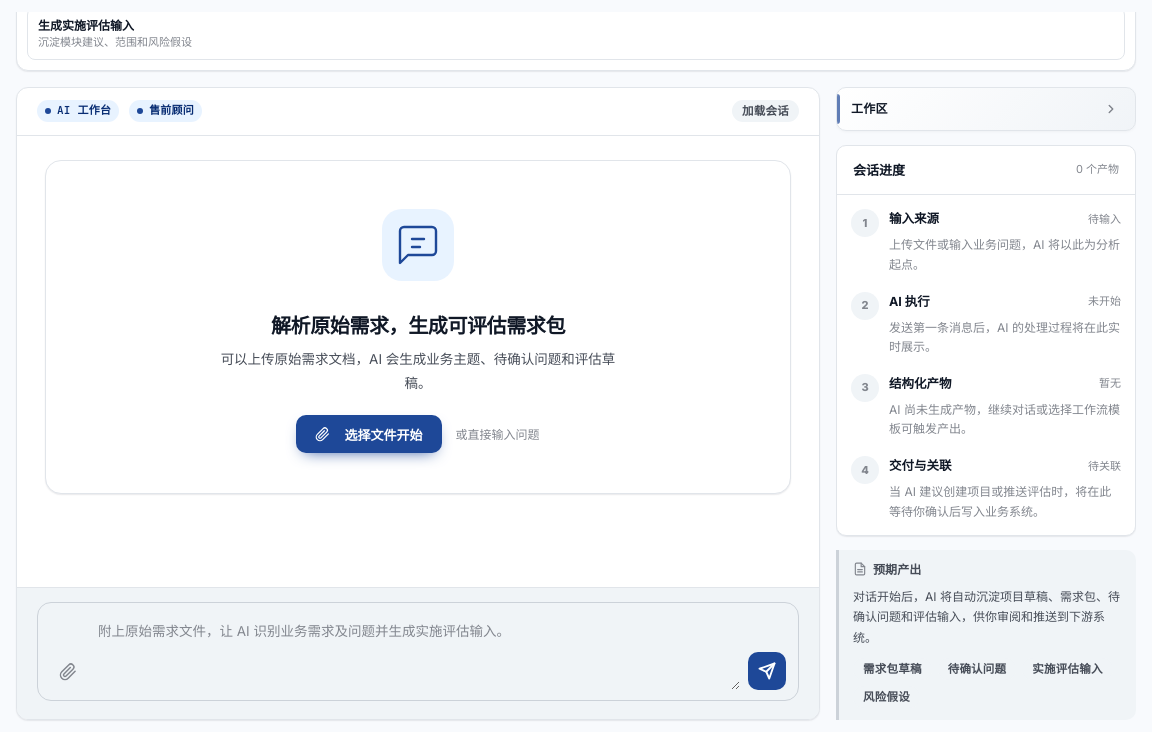
Test: AiHomeWorkbench › does not render unsafe markdown links or raw HTML in AI answers
(page scrolled)
In the text box: (417, 652) [94, 614, 740, 690], type "请返回链接"
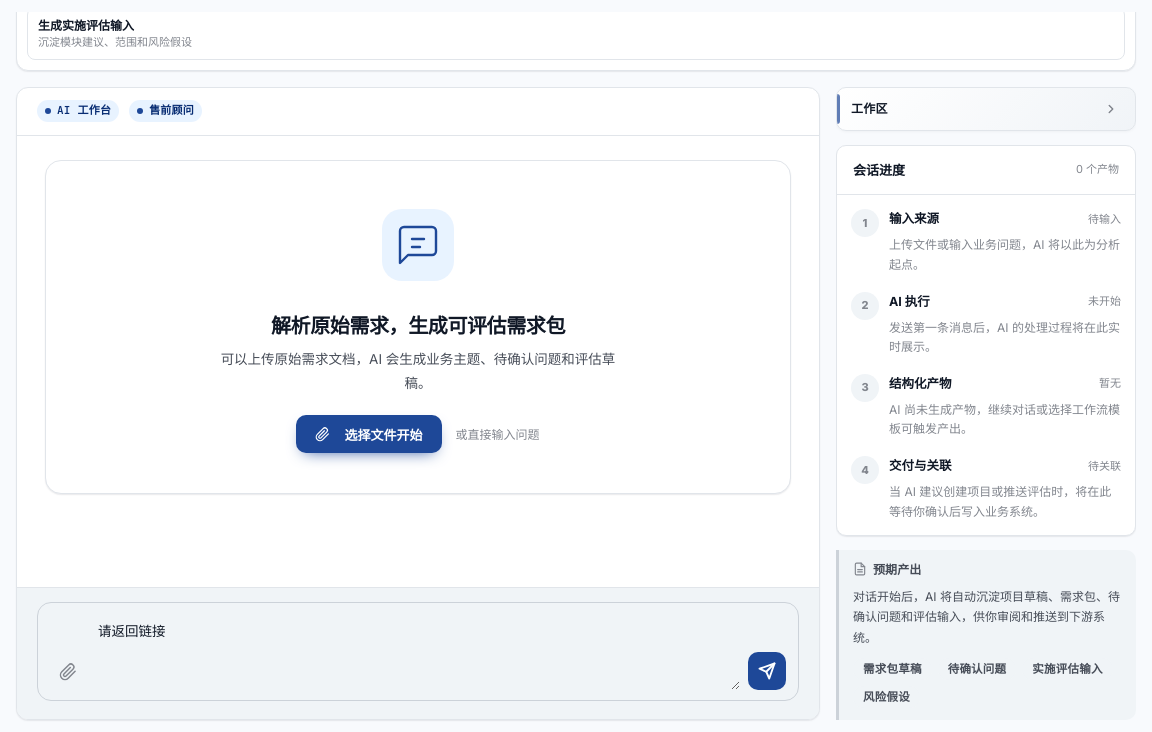
Click the button named "发送消息": (767, 671) [748, 652, 786, 690]
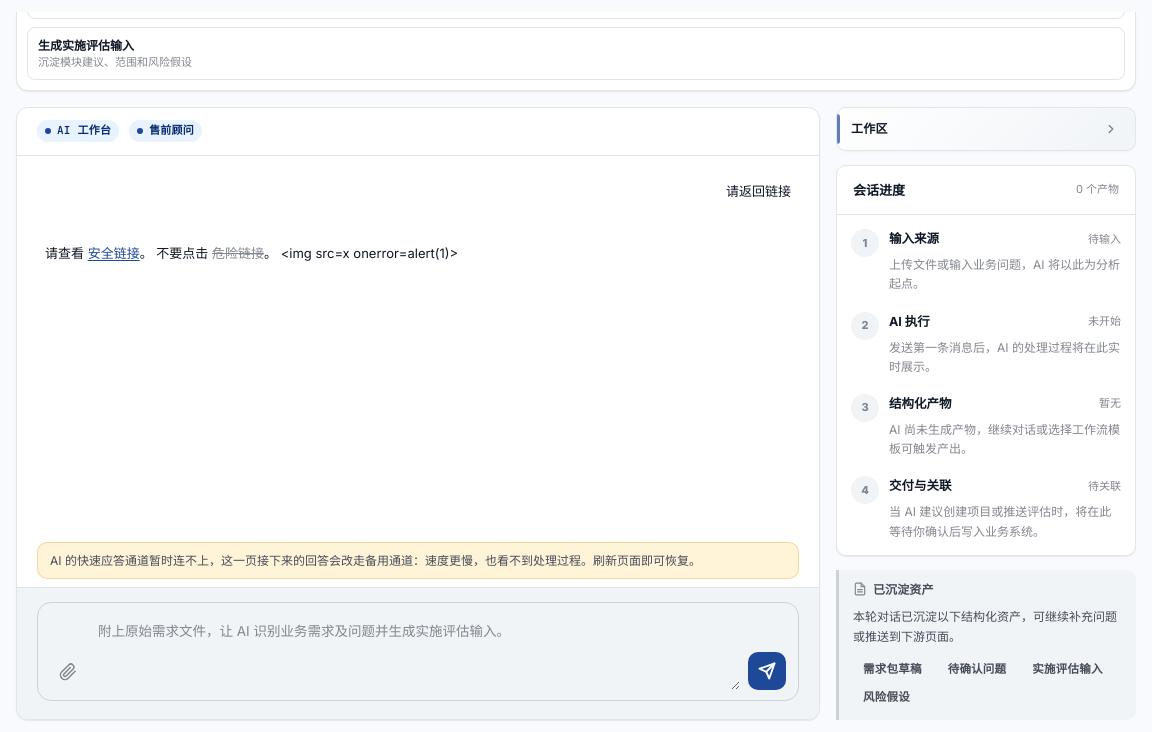
Expected: the text "危险链接" is shown, [212, 245, 264, 261]
Expected: the text "请查看 安全链接 。 不要点击 危险链接。 <img src=x onerror=alert(1)>" is shown, [45, 242, 458, 264]
